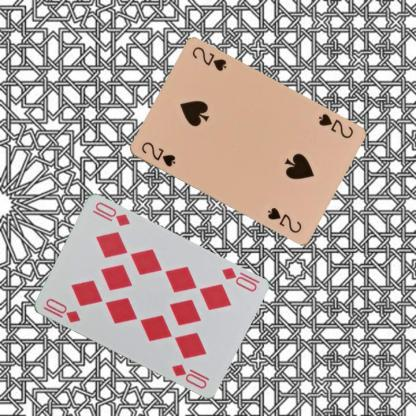10d: (218, 264, 258, 294), (43, 296, 81, 324)
2s: (138, 139, 177, 168), (316, 111, 354, 140)
